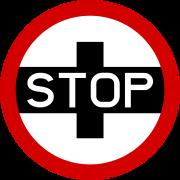Stop: (9, 7, 171, 175)
